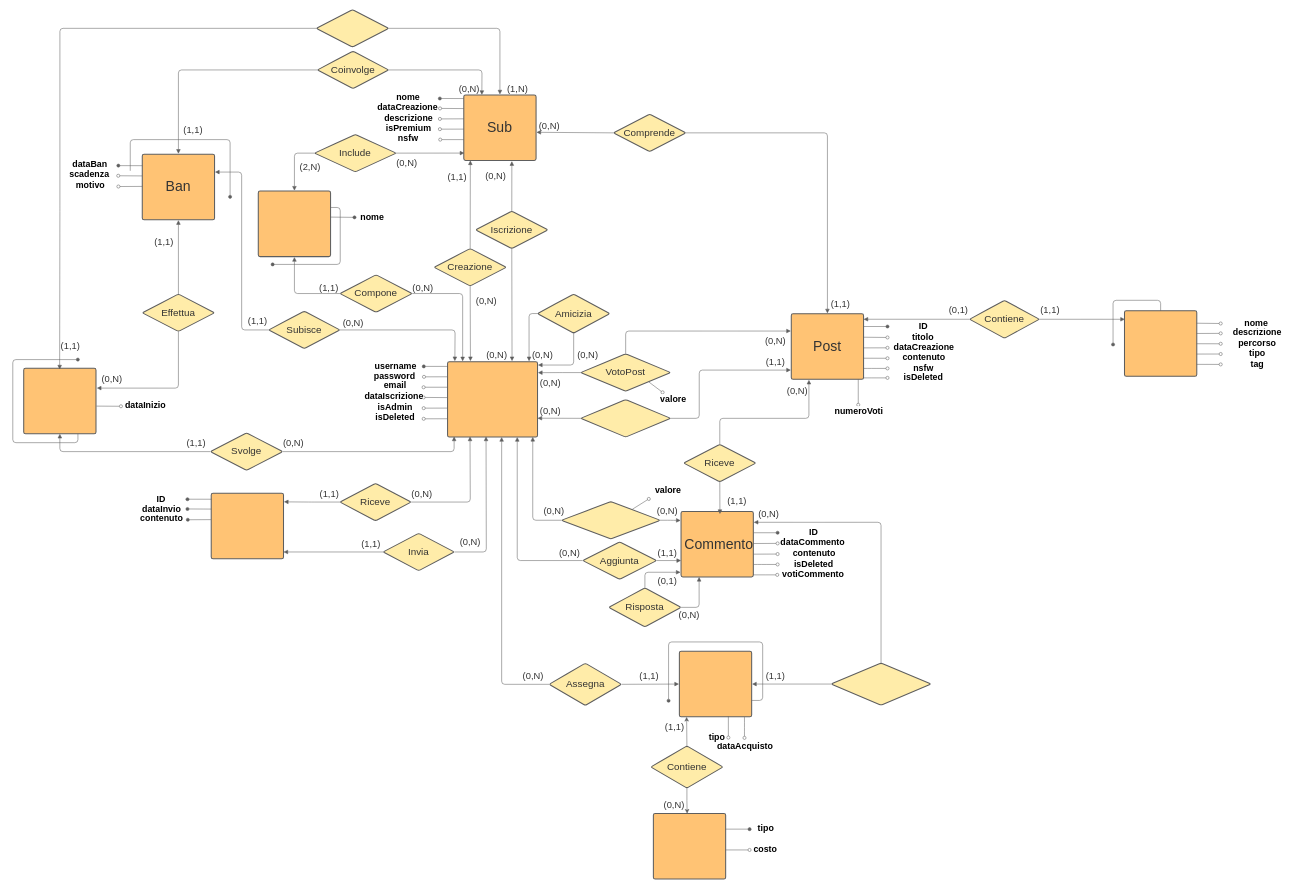
Some shapes in this 1291 by 888 pixel diagram are drawn without their labels. Each missing label, with the box of its shape:
Award: (679, 651, 752, 717)
Feed: (258, 190, 331, 257)
Media: (1124, 310, 1197, 376)
Messaggio: (210, 492, 284, 559)
Moderatore: (23, 368, 96, 434)
Ottiene: (830, 662, 931, 705)
Possiede: (316, 9, 389, 47)
Prezzo: (653, 813, 726, 879)
Scrive: (580, 399, 671, 437)
Utente: (447, 361, 538, 437)
VotoCommento: (561, 501, 661, 539)
